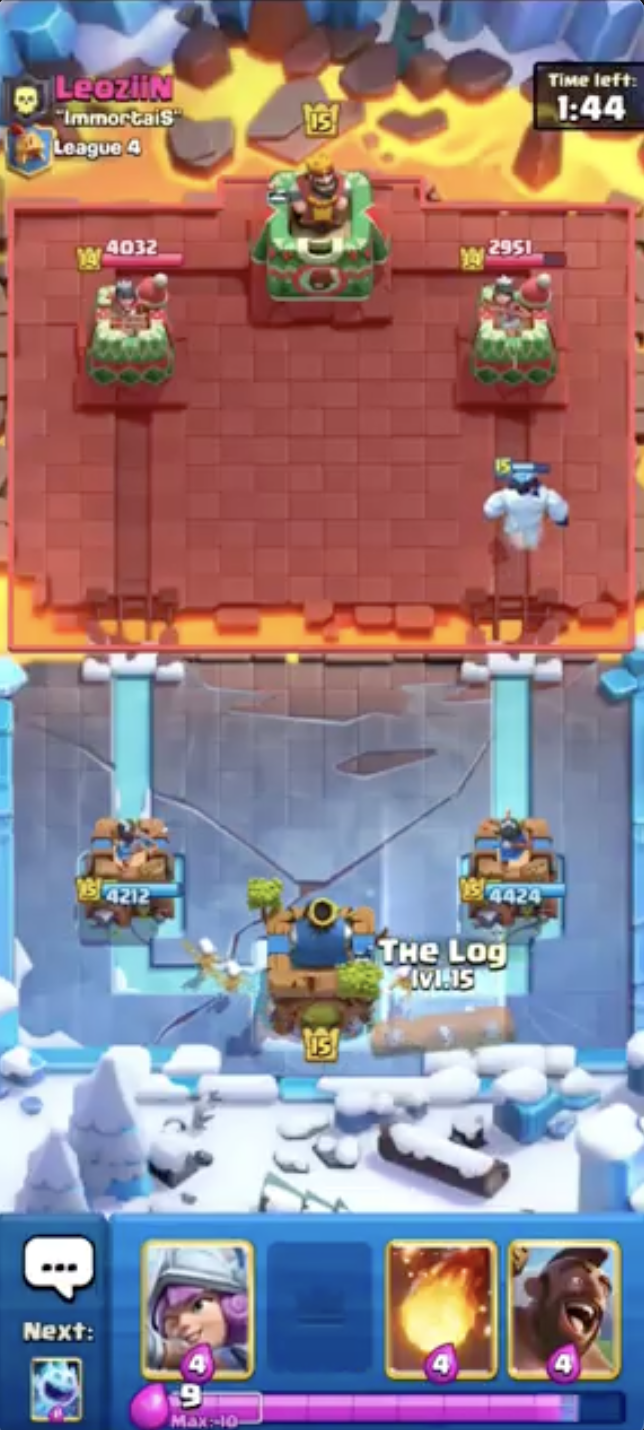ice-golem: (484, 450, 576, 558)
log: (364, 1001, 523, 1055)
skeleton: (188, 933, 223, 976), (217, 948, 246, 995)
